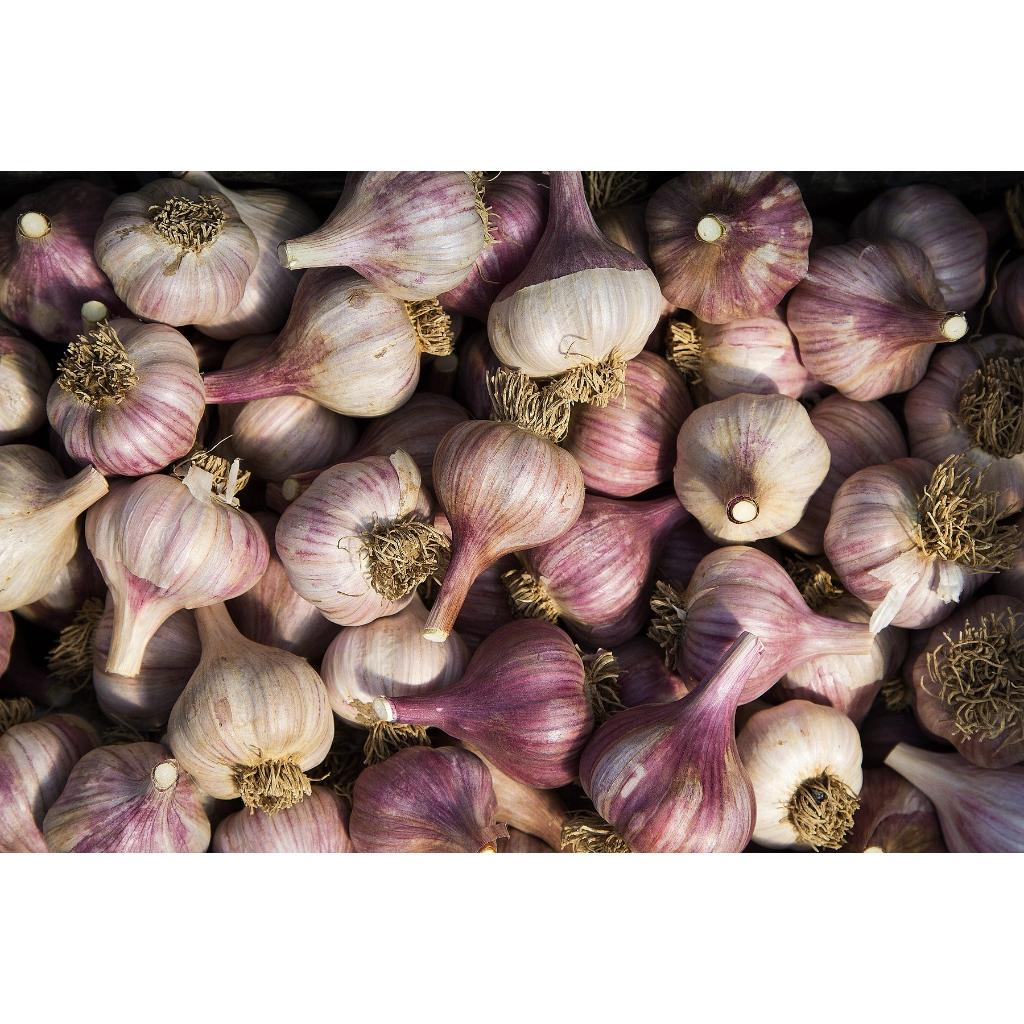garlic: (424, 351, 626, 641), (86, 451, 270, 677), (376, 621, 594, 789), (168, 603, 334, 817), (824, 457, 1020, 629), (204, 267, 420, 417), (276, 451, 450, 627), (46, 319, 206, 477), (94, 179, 260, 327), (674, 393, 830, 545)
